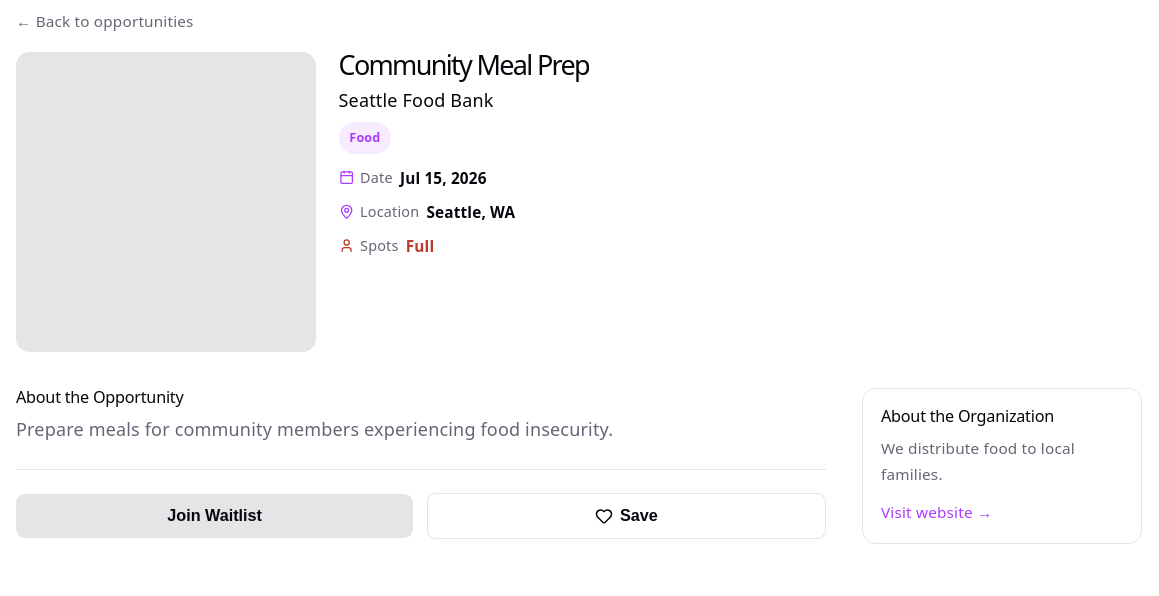
Test: OpportunityDetailsPage › shows an error message when joining the waitlist fails
Click the button "Join Waitlist": (215, 516) top-left (16, 494), bottom-right (413, 538)
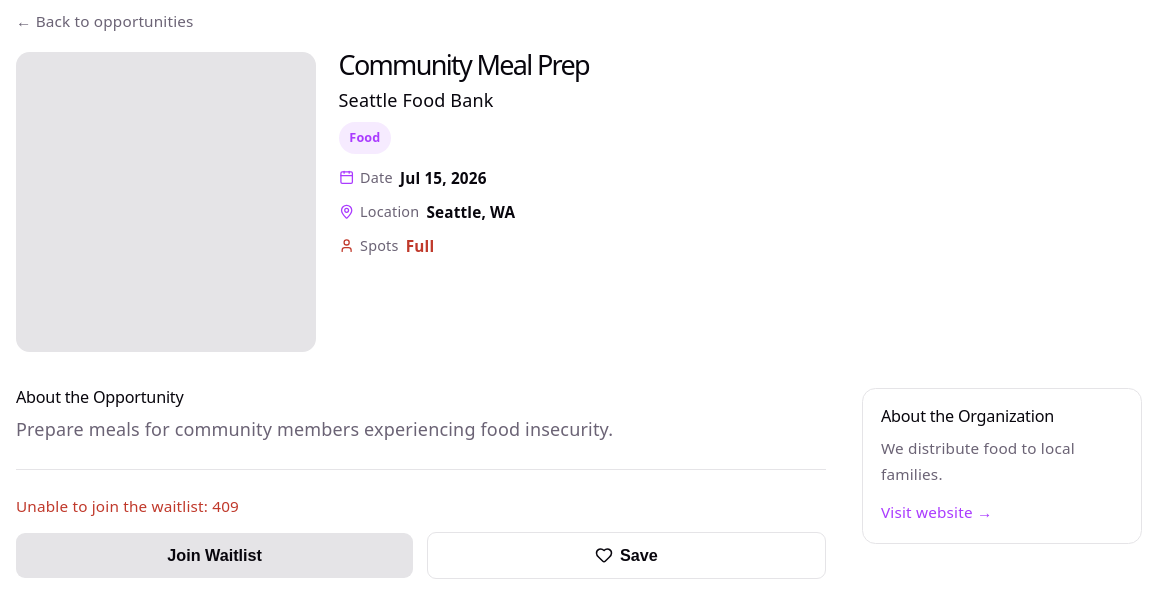
Expected: the button "Join Waitlist" is shown, top-left (16, 533), bottom-right (413, 578)
Now the message reads "Unable to join the waitlist: 409", box top-left (16, 496), bottom-right (239, 516)
